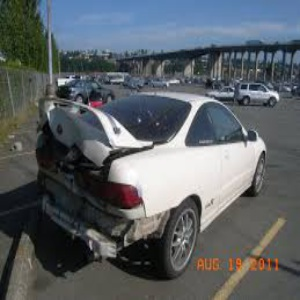bonnet: (37, 106, 133, 164)
bumper: (39, 191, 164, 261)
